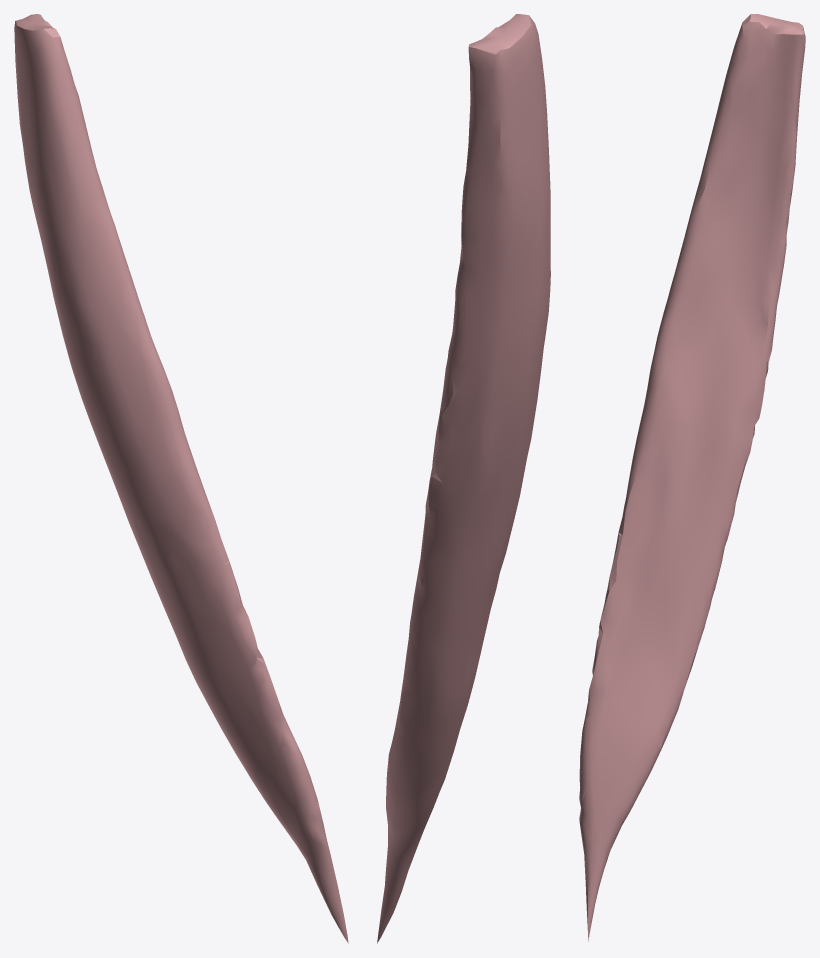
File: fma65190_mm1859m.glb
3 views of the same model, side by side, from view 1: azimuth 30°, elevation 25°; view 2: azimuth 150°, elevation 25°; view 3: azimuth 270°, elevation 25° (orthographic). The views are drawn at different scales.
Visible parts, largest first — view 1: FMA65190_MM1859M; view 2: FMA65190_MM1859M; view 3: FMA65190_MM1859M.
Boxes of the visible parts, bbox=[...] form: FMA65190_MM1859M: bbox=[14, 14, 348, 943]; FMA65190_MM1859M: bbox=[377, 14, 550, 943]; FMA65190_MM1859M: bbox=[579, 14, 805, 941].
Size of the model in its own units: 0.0471 by 0.1796 by 0.0443.
